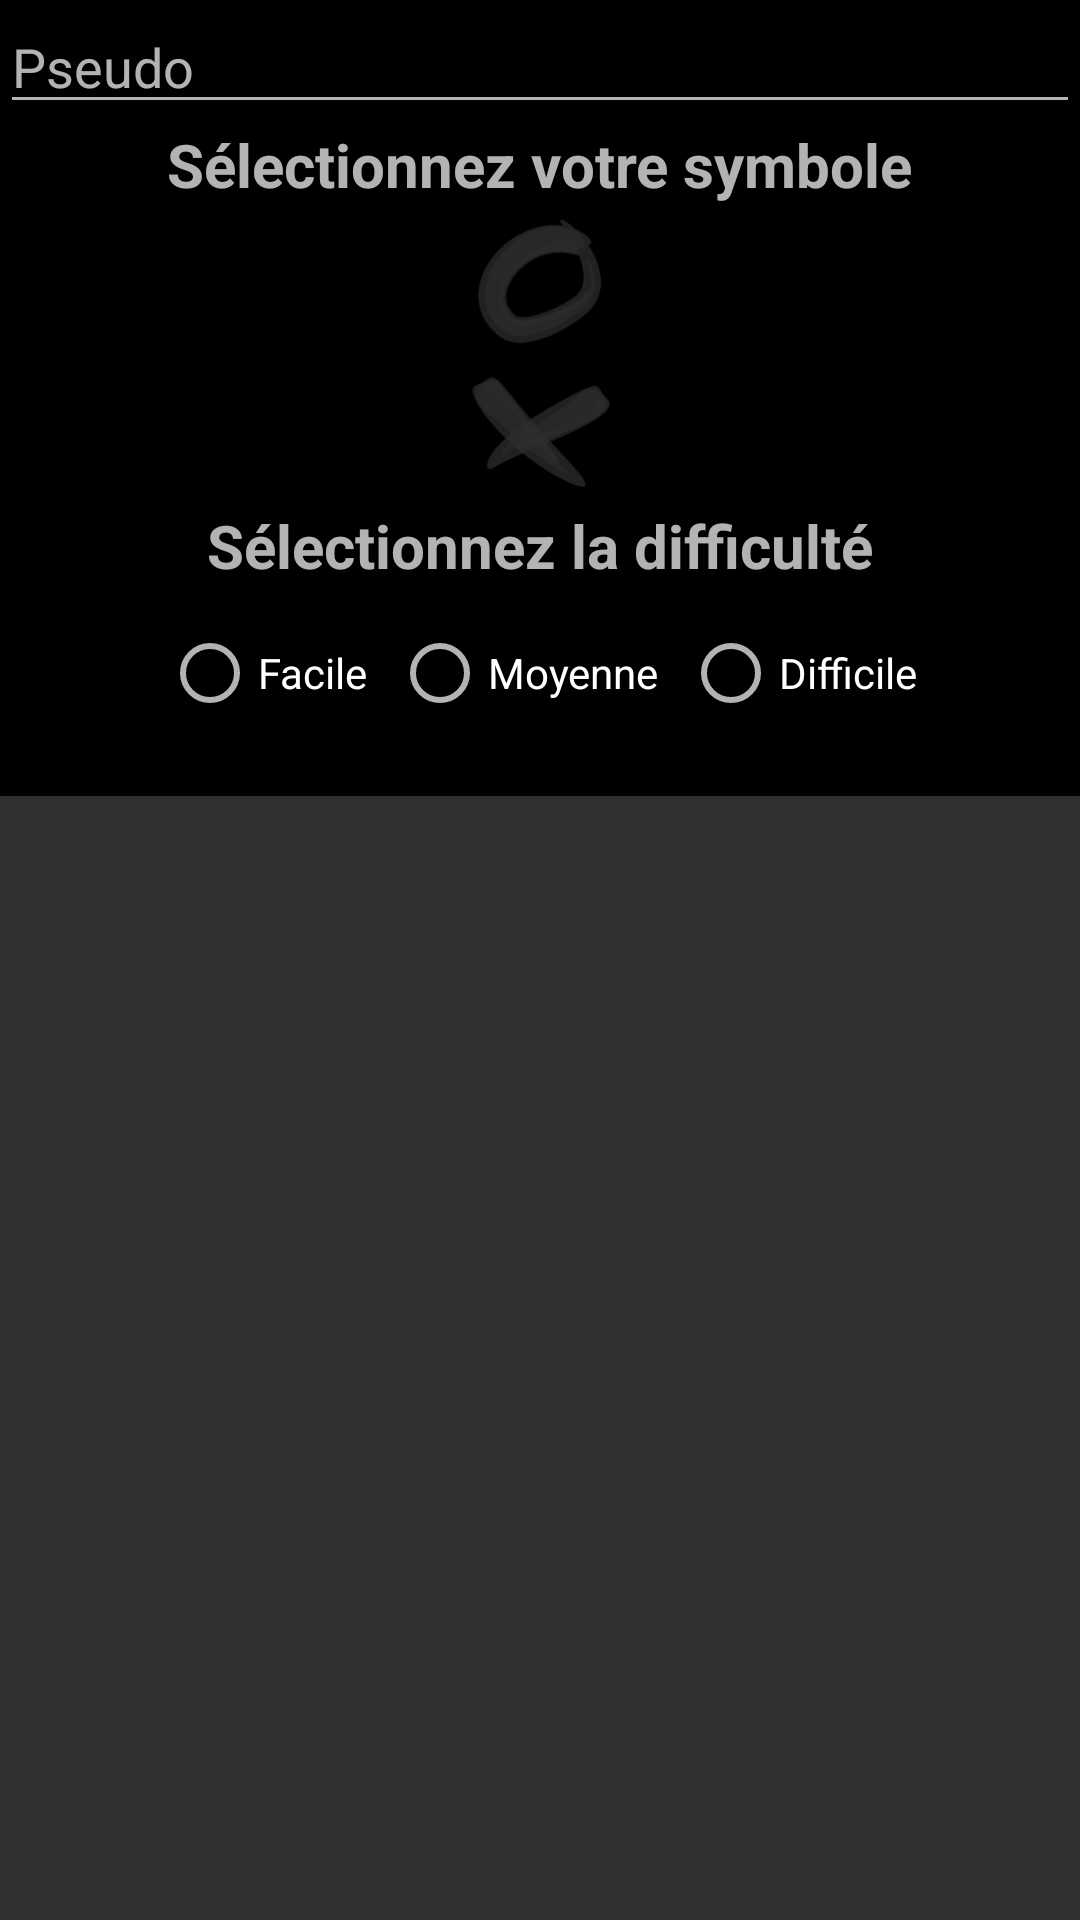

Where icons sit on this 1080px×1920px app screen, as (x1, y1, x2, y2):
cross: (473, 378, 609, 486)
